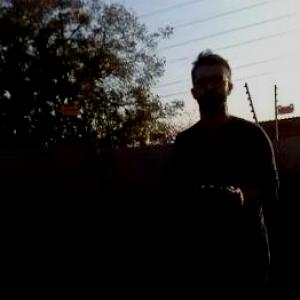follow: (168, 41, 284, 299)
